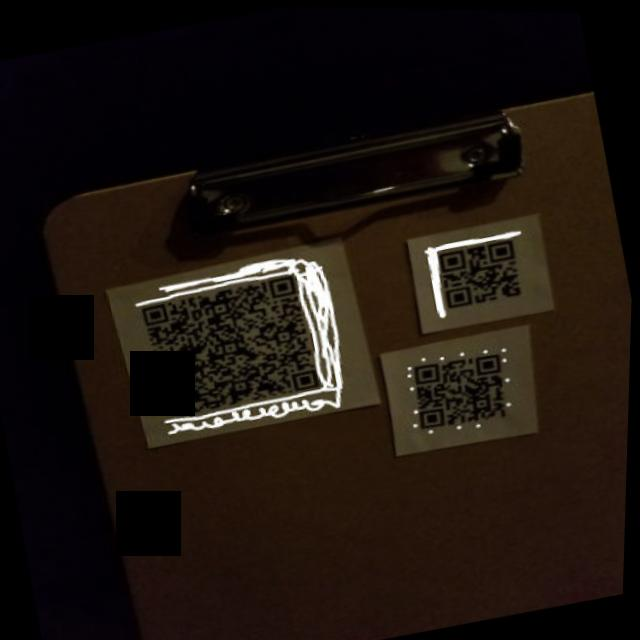QR_CODE: (125, 246, 350, 440), (395, 333, 523, 447), (422, 217, 543, 323)
